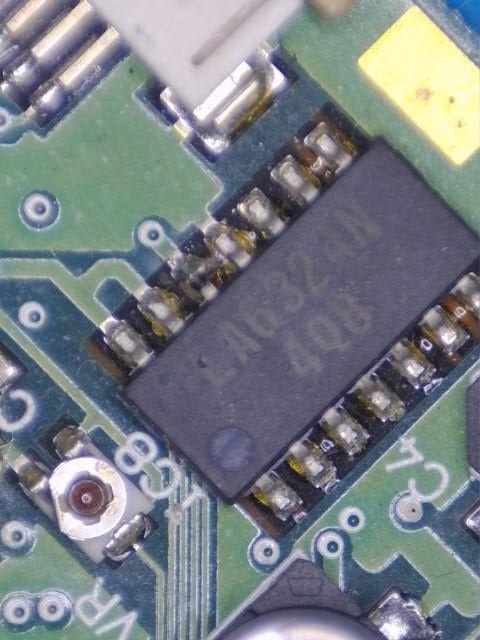pcb_defect: (170, 222, 254, 302)
